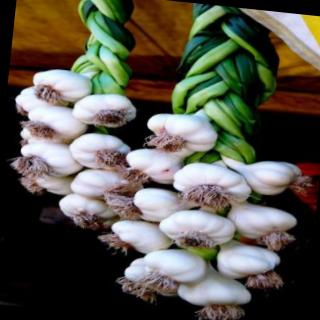Bawang Putih: (171, 161, 254, 208), (158, 208, 237, 251), (145, 111, 222, 155), (67, 131, 134, 174), (70, 91, 139, 132), (143, 247, 210, 287), (30, 66, 94, 105), (244, 159, 303, 200)
